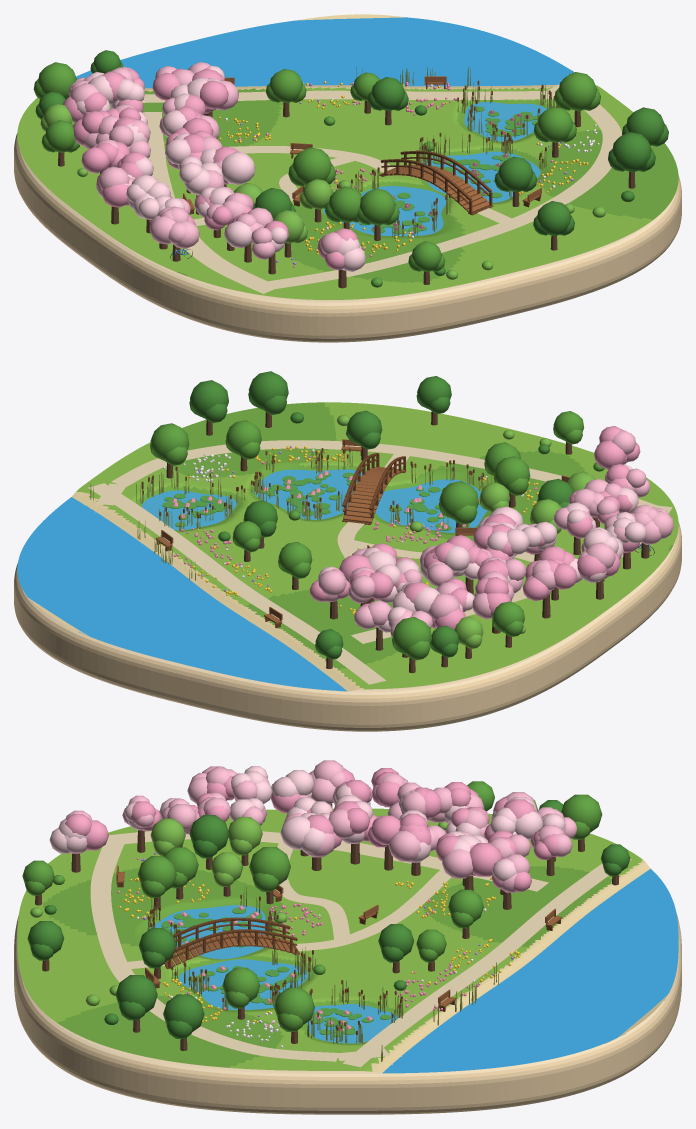
Rendered from samrakpark.glb.
3 renders of one model, top to bottom at view 1: azimuth 30°, elevation 25°; view 2: azimuth 150°, elevation 25°; view 3: azimuth 270°, elevation 25°, orthographic. The views are drawn at different scales.
Parts seen in each view (by area): view 1: SN_Ground, SN_Trees, SN_Base, SN_Water, SN_Paths, SN_Wetland, SN_Bridge, SN_Flowers, SN_Props; view 2: SN_Trees, SN_Ground, SN_Water, SN_Base, SN_Paths, SN_Wetland, SN_Bridge, SN_Flowers, SN_Props; view 3: SN_Ground, SN_Trees, SN_Water, SN_Base, SN_Paths, SN_Wetland, SN_Bridge, SN_Flowers, SN_Props.
Boxes of the visible parts, x1=… form: SN_Ground: x1=17, y1=14, x2=678, y2=299; SN_Trees: x1=33, y1=50, x2=668, y2=288; SN_Base: x1=14, y1=133, x2=681, y2=342; SN_Water: x1=76, y1=17, x2=574, y2=236; SN_Paths: x1=142, y1=84, x2=621, y2=293; SN_Wetland: x1=333, y1=66, x2=572, y2=237; SN_Bridge: x1=379, y1=151, x2=493, y2=215; SN_Flowers: x1=165, y1=81, x2=599, y2=267; SN_Props: x1=170, y1=76, x2=541, y2=261; SN_Trees: x1=150, y1=371, x2=673, y2=673; SN_Ground: x1=23, y1=402, x2=678, y2=691; SN_Water: x1=17, y1=469, x2=487, y2=691; SN_Base: x1=14, y1=522, x2=681, y2=731; SN_Paths: x1=88, y1=440, x2=672, y2=684; SN_Wetland: x1=90, y1=447, x2=491, y2=580; SN_Bridge: x1=342, y1=453, x2=406, y2=524; SN_Flowers: x1=155, y1=445, x2=546, y2=614; SN_Props: x1=156, y1=439, x2=654, y2=628; SN_Ground: x1=17, y1=808, x2=672, y2=1074; SN_Trees: x1=22, y1=760, x2=630, y2=1050; SN_Water: x1=150, y1=868, x2=678, y2=1073; SN_Base: x1=14, y1=914, x2=681, y2=1114; SN_Paths: x1=90, y1=829, x2=631, y2=1067; SN_Wetland: x1=147, y1=886, x2=499, y2=1061; SN_Bridge: x1=164, y1=917, x2=299, y2=968; SN_Flowers: x1=117, y1=852, x2=519, y2=1047; SN_Props: x1=116, y1=865, x2=561, y2=1011.
Bounding box in the file's own units: 6.1 × 1.17 × 6.5.
